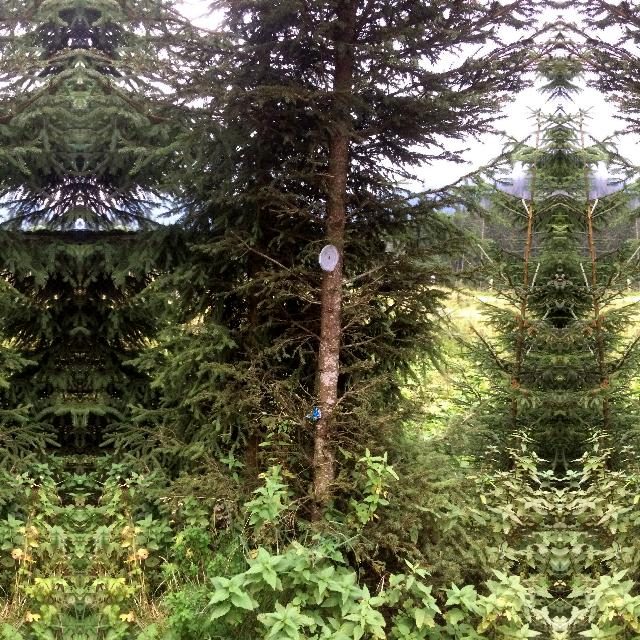Plastic: (316, 242, 340, 274), (304, 405, 322, 421)
